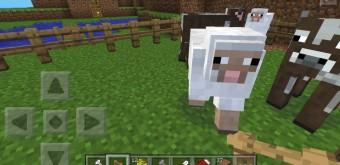cow: (267, 10, 340, 133), (180, 7, 246, 33)
sheep: (187, 26, 266, 135), (244, 8, 276, 33)
